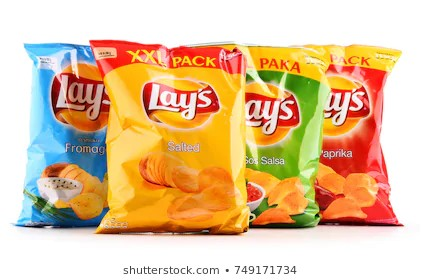colgate-medium: (22, 42, 108, 228), (323, 44, 404, 228), (241, 43, 320, 229)
lays-large: (92, 44, 246, 234)
